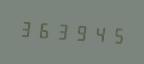five: (108, 22, 125, 47)
four: (90, 21, 107, 46)
nine: (72, 20, 89, 45)
six: (35, 17, 52, 42)
three: (17, 16, 34, 41), (54, 18, 71, 43)
